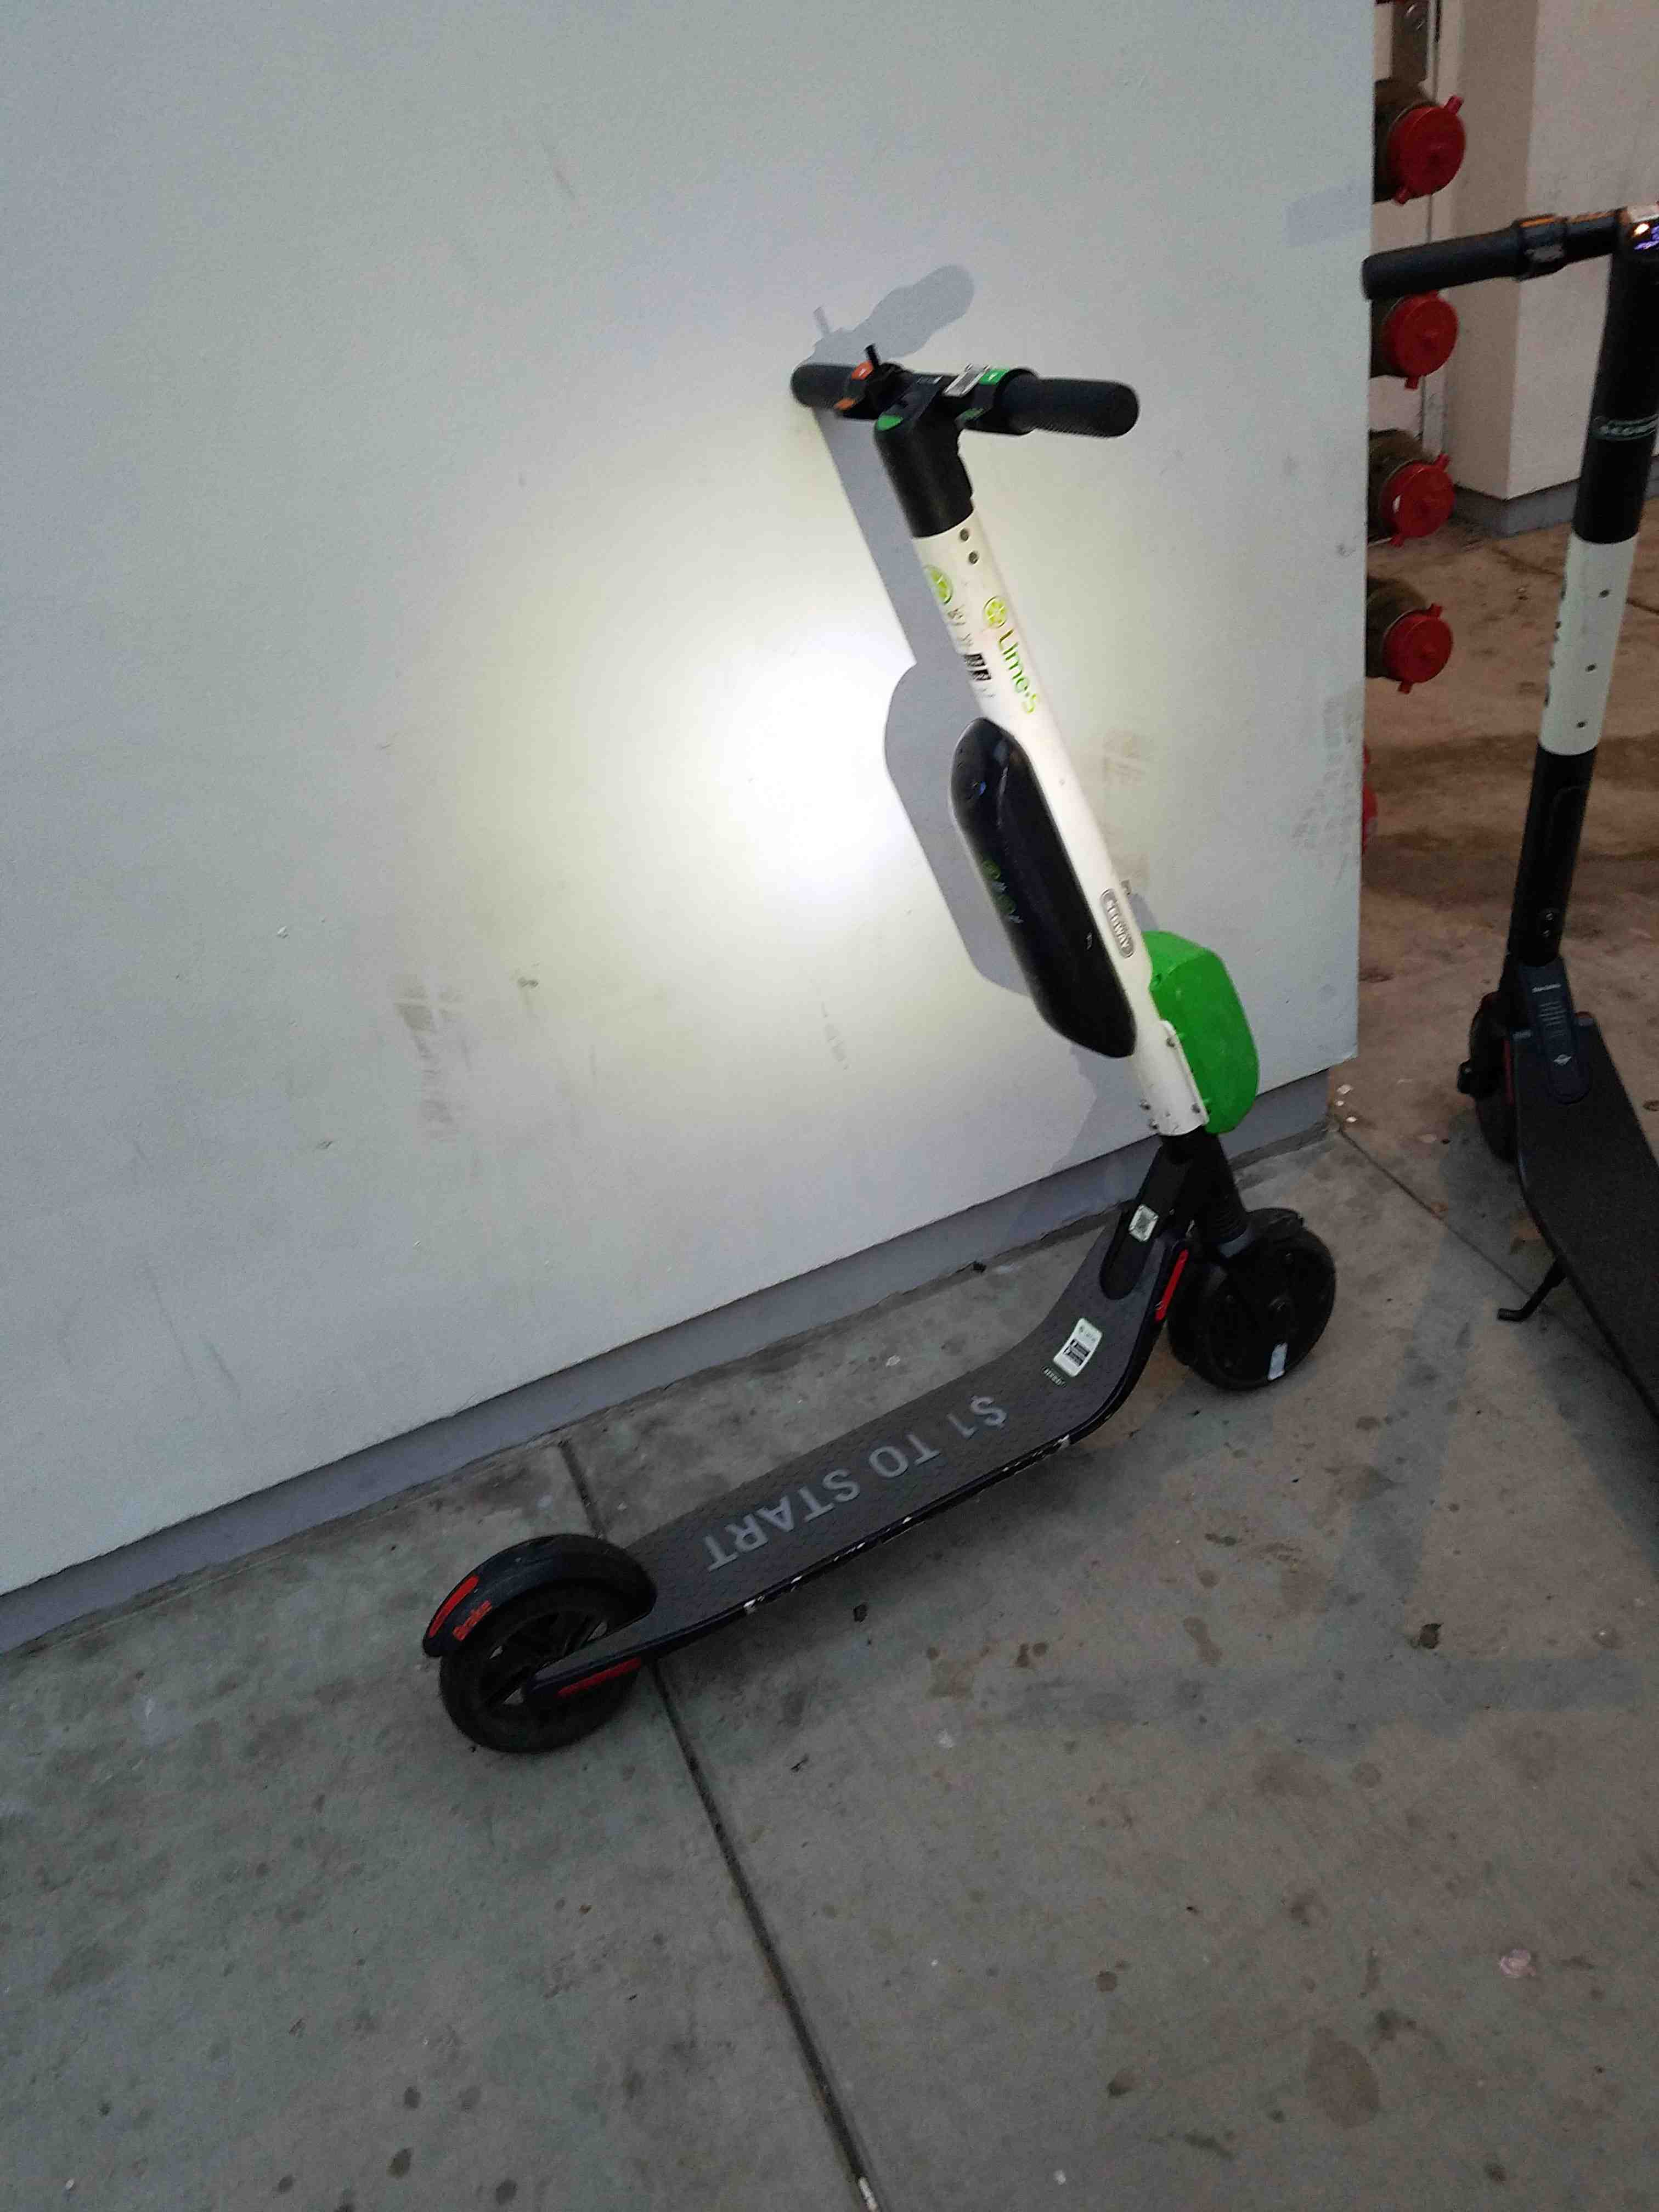scooter: (394, 303, 1358, 1764)
